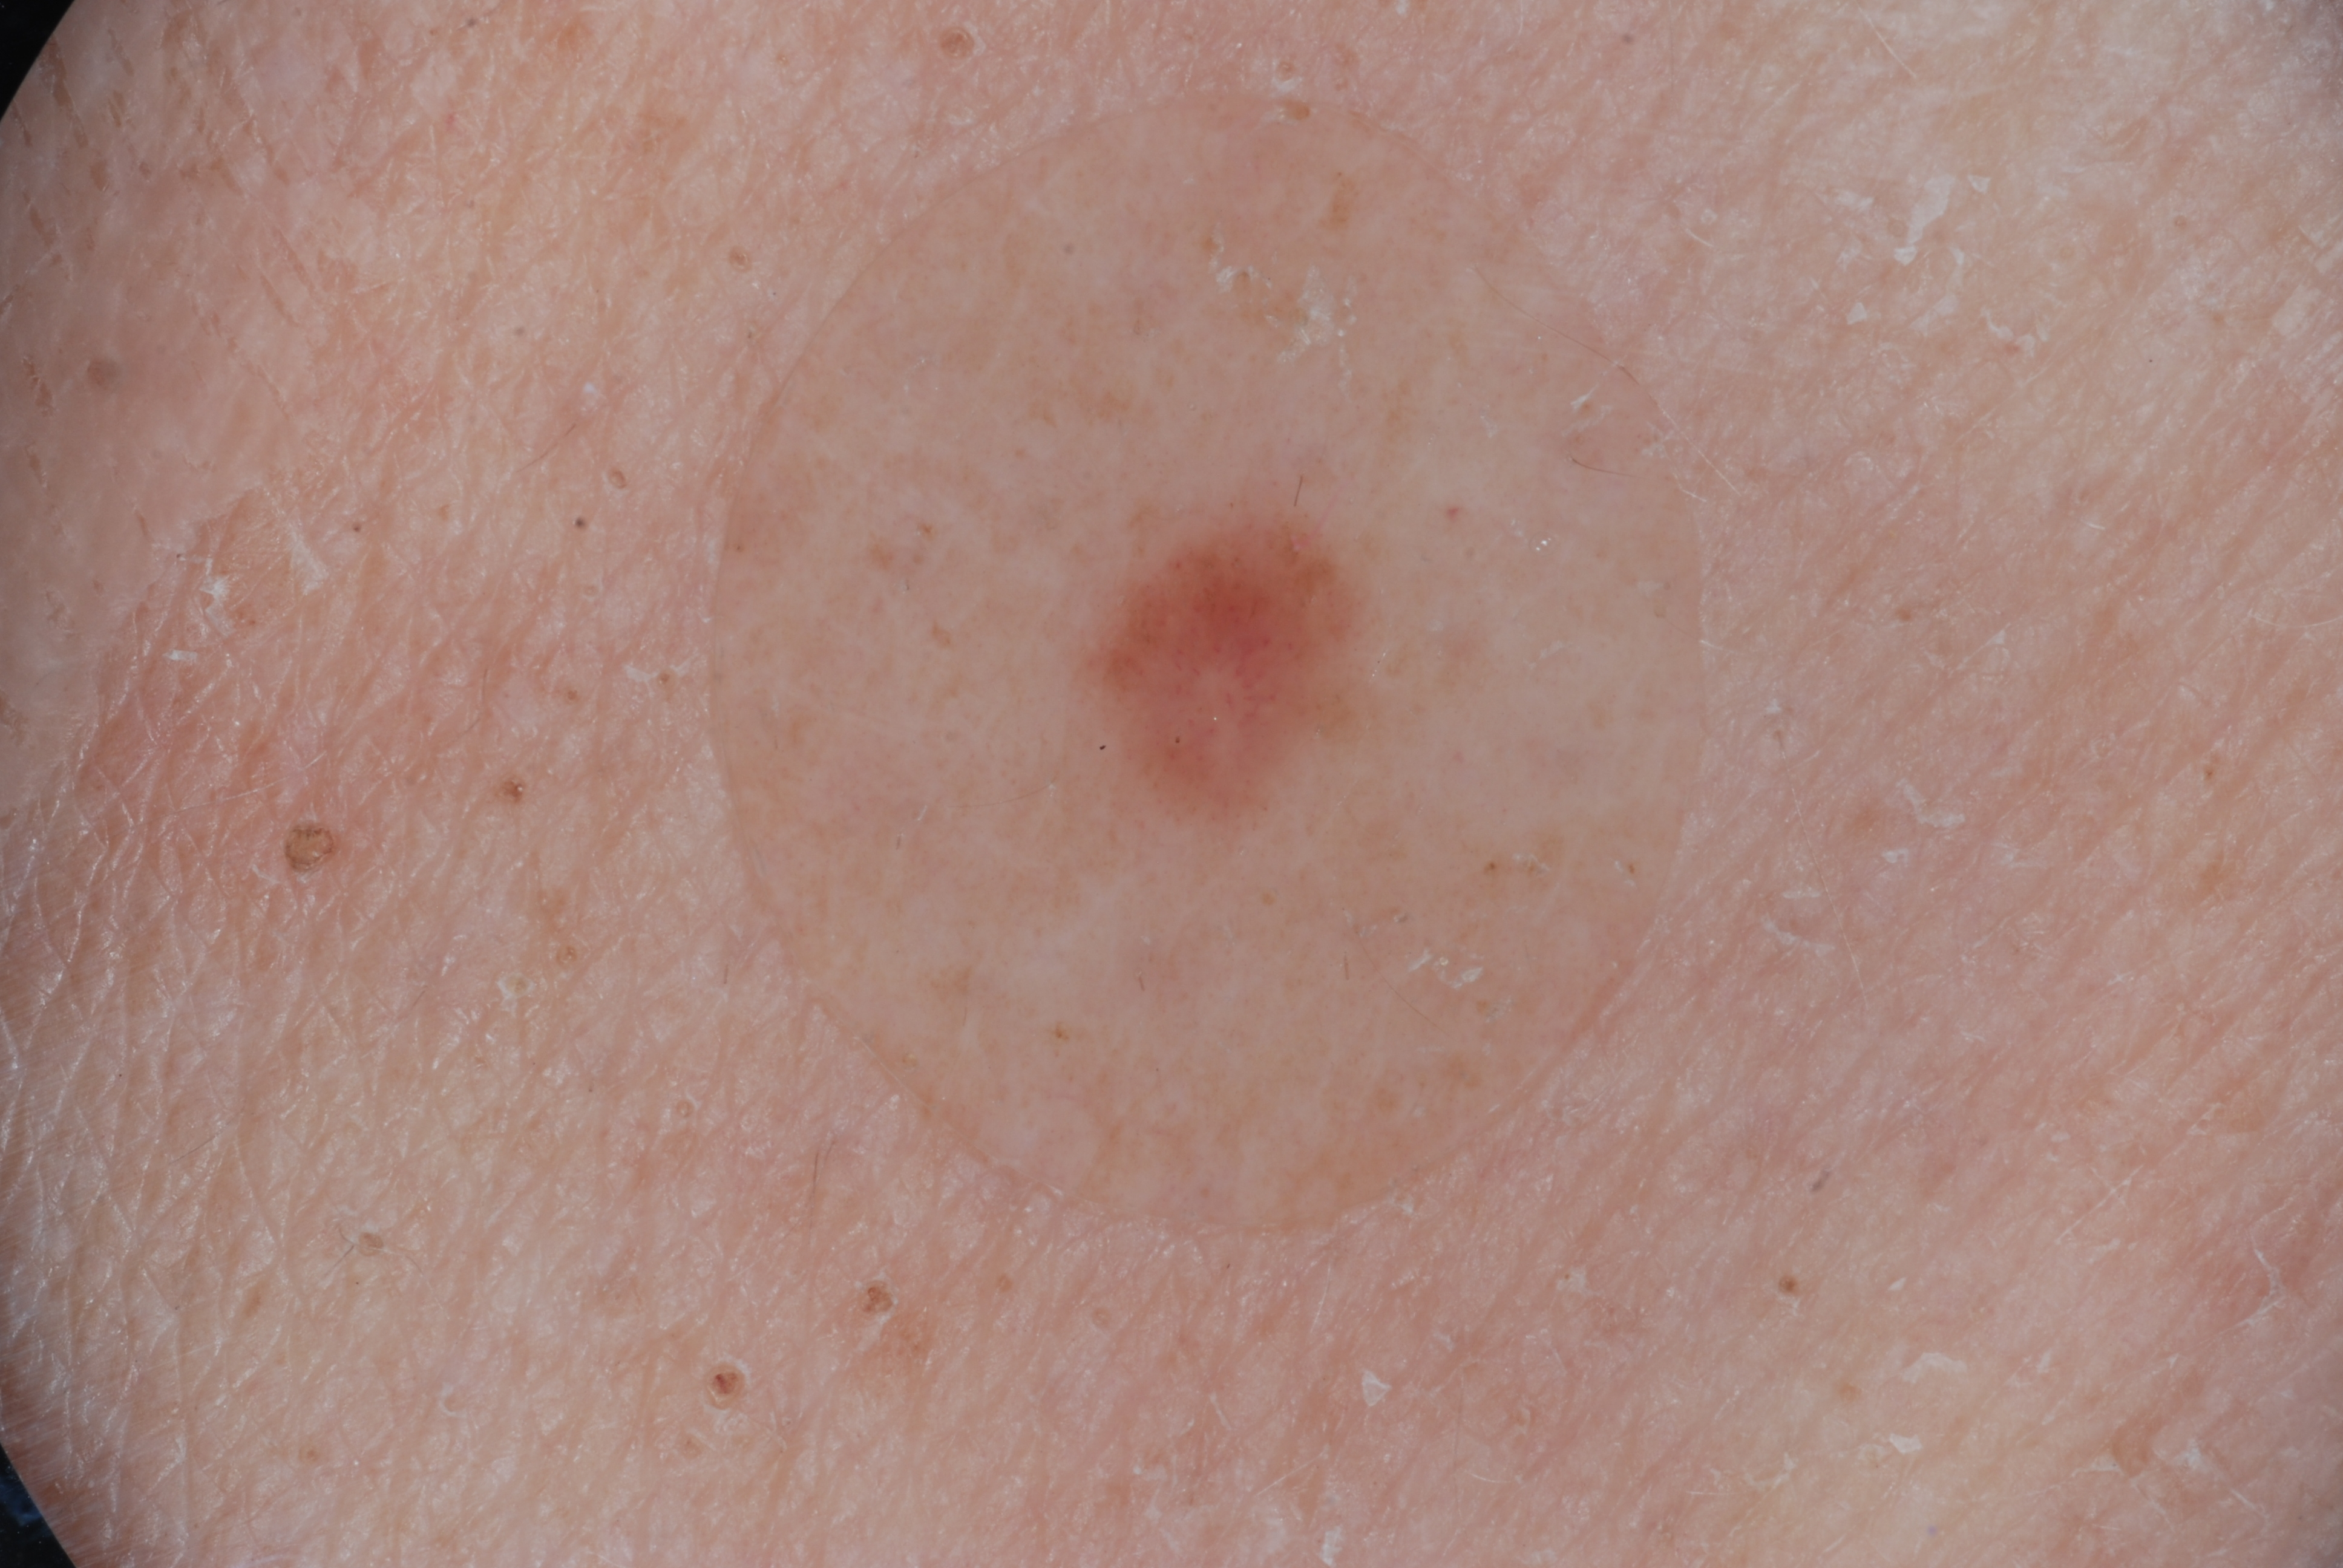Detected Lesion: (1081, 472, 1375, 828)
